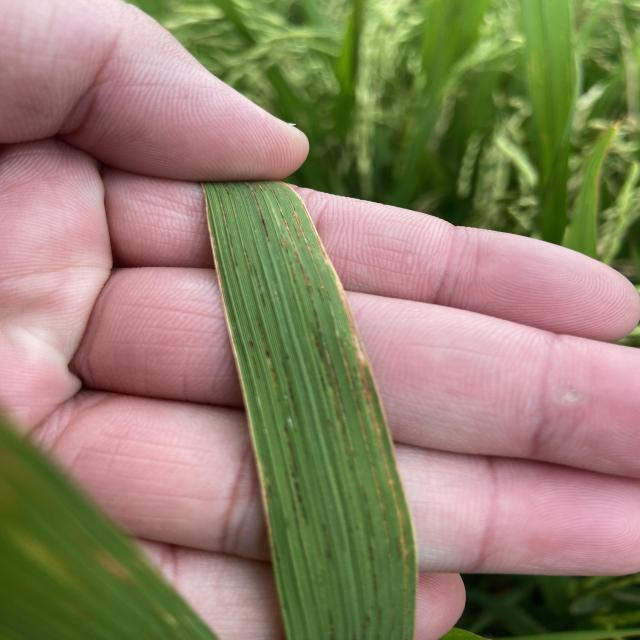Dom soc vi khuan: (311, 334, 348, 420), (281, 217, 312, 286), (244, 181, 270, 243), (291, 205, 313, 253)
